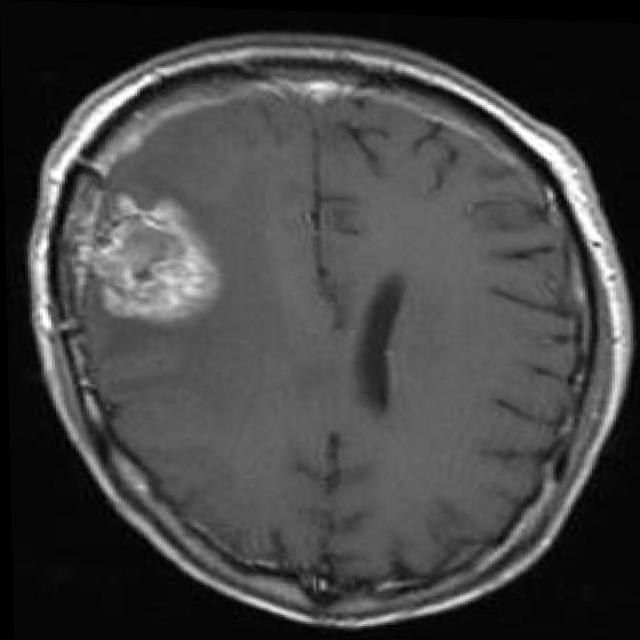Tumor: (87, 194, 201, 310)
